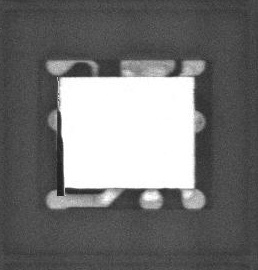DIE_BROKEN: (55, 103, 66, 200)
